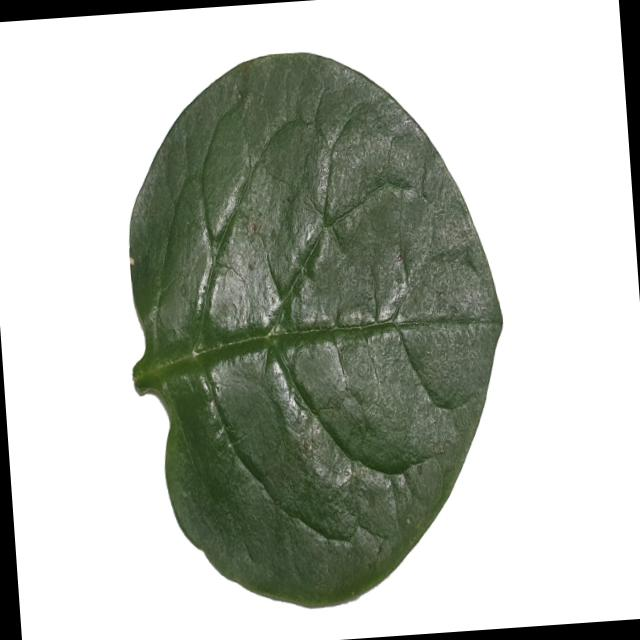Medicinal-Basale: (108, 40, 521, 622)
